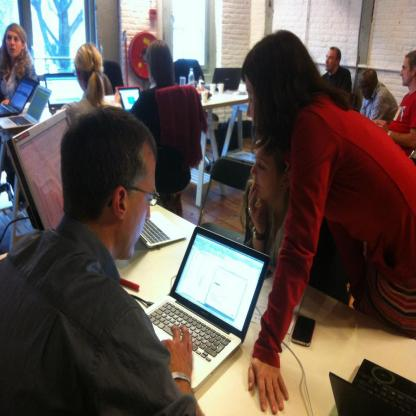board: (144, 226, 270, 393), (328, 358, 416, 415), (0, 84, 52, 129), (44, 74, 84, 118), (140, 211, 185, 249), (0, 75, 38, 117), (204, 68, 242, 91), (116, 86, 142, 112)
